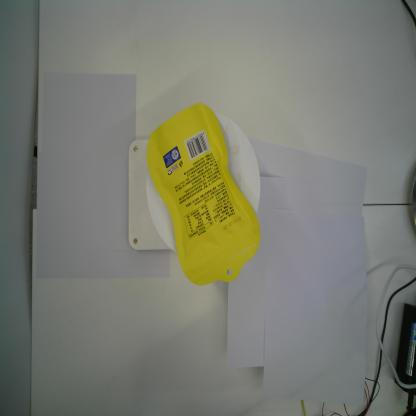Dried Fruit: (145, 101, 262, 289)
